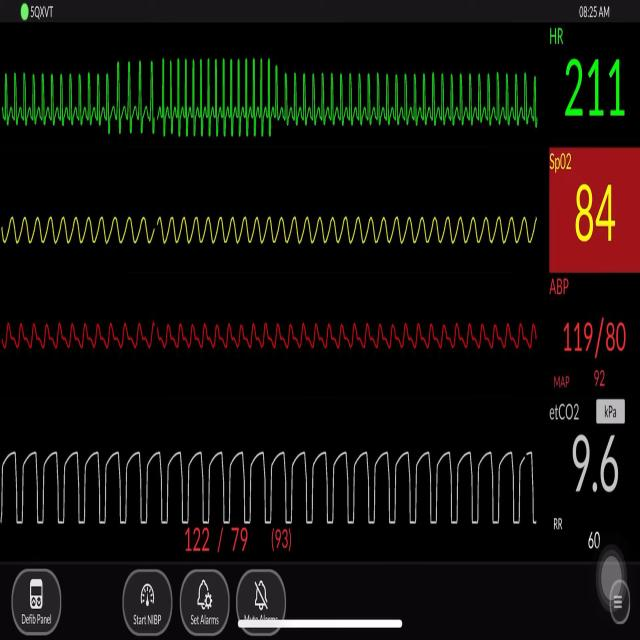danger: (7, 43, 545, 159)
